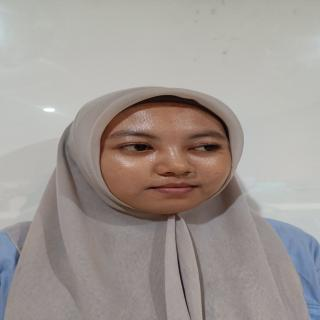Netral: (97, 96, 248, 218)
